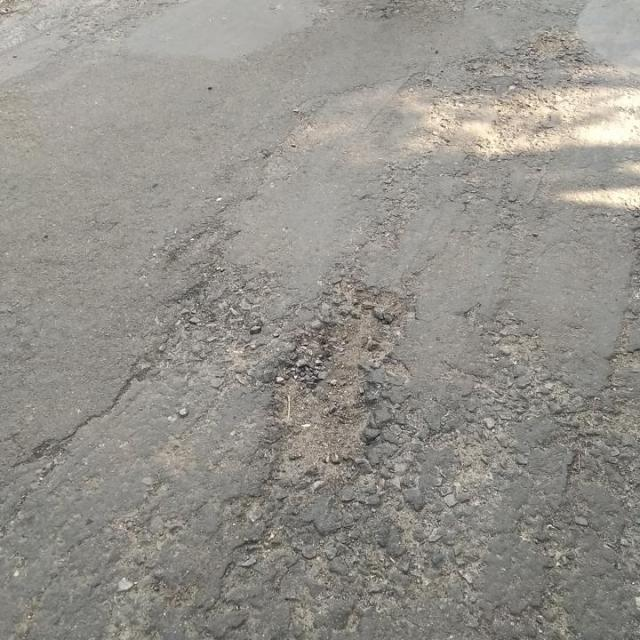pothole: (261, 276, 423, 490), (170, 273, 268, 356)
